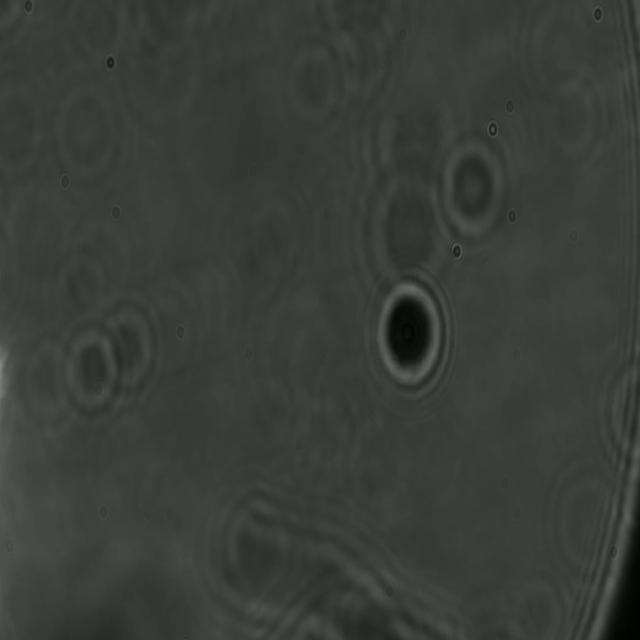DCELL: (372, 272, 452, 397)
